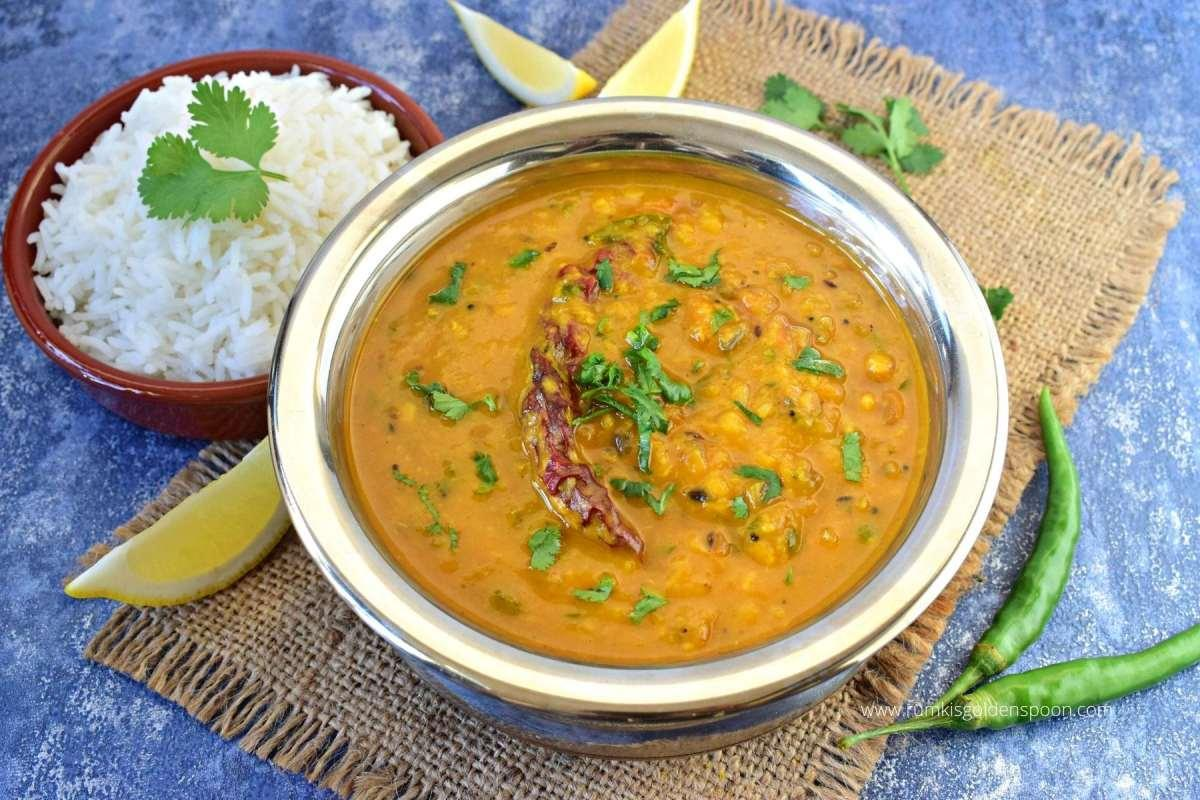dal: (342, 174, 943, 669)
rice: (31, 67, 419, 381)
